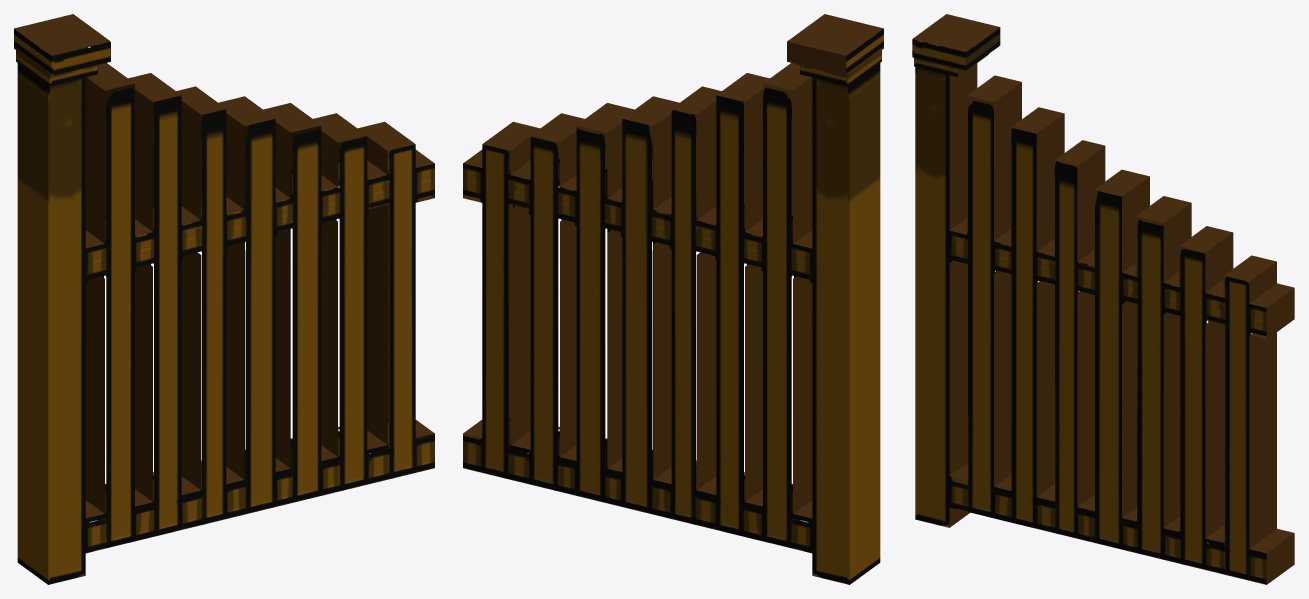
The model's file is Gate_Right.fbx.
3 views of the same model, side by side, from view 1: azimuth 30°, elevation 25°; view 2: azimuth 150°, elevation 25°; view 3: azimuth 330°, elevation 25° (orthographic). The views are drawn at different scales.
Parts seen in each view (by area): view 1: polySurface1; view 2: polySurface1; view 3: polySurface1.
Part boxes in pixels (bbox=[...]): polySurface1: bbox=[14, 14, 434, 584]; polySurface1: bbox=[463, 14, 883, 584]; polySurface1: bbox=[912, 14, 1294, 584].
Size of the model in its own units: 0.8213 by 1.08 by 0.1385.
2 materials, 1 textured.
